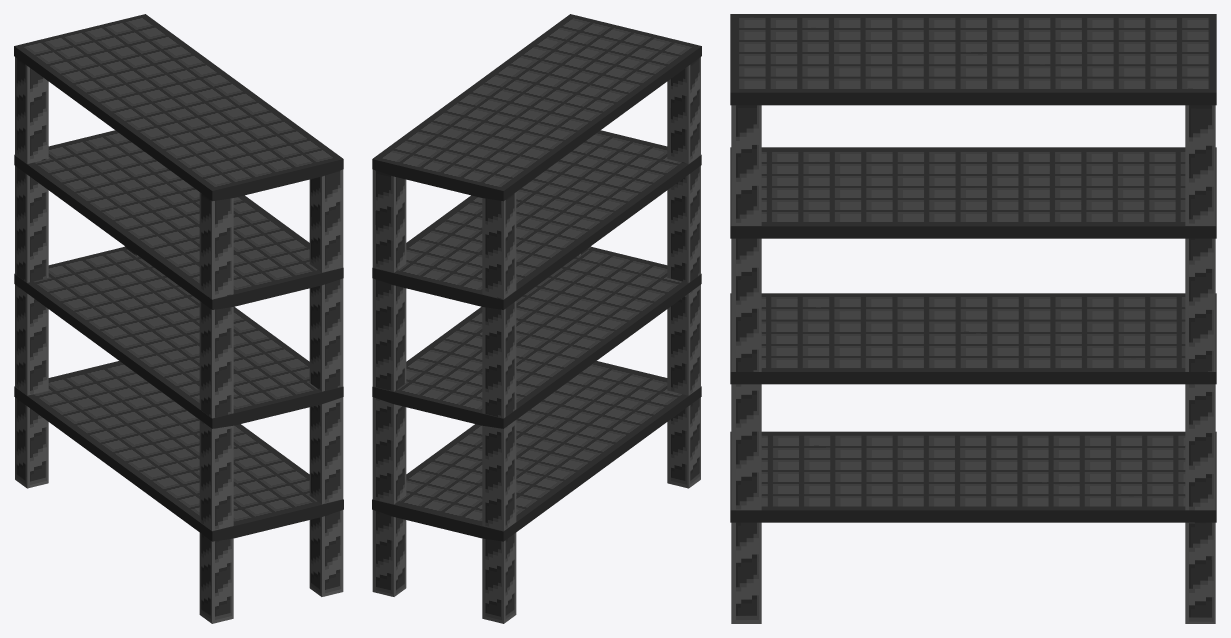
The model's file is Shelf.fbx.
The picture shows the model from 3 angles, left to right: view 1: azimuth 30°, elevation 25°; view 2: azimuth 150°, elevation 25°; view 3: azimuth 270°, elevation 25°; orthographic projection. The views are drawn at different scales.
Visible parts, largest first — view 1: Cube.004, Cube.006, Cube.007, Cube.005, Cube.001, Cube.002, Cube; view 2: Cube.004, Cube.006, Cube.007, Cube.005, Cube, Cube.003, Cube.001; view 3: Cube.004, Cube.005, Cube.006, Cube.007, Cube.002, Cube.003.
Boxes of the visible parts, x1,y1,x2,y2 form: Cube.004: (14, 14, 343, 201); Cube.006: (14, 247, 343, 428); Cube.007: (14, 361, 343, 541); Cube.005: (14, 130, 343, 309); Cube.001: (199, 192, 233, 623); Cube.002: (309, 169, 343, 596); Cube: (15, 57, 48, 488); Cube.004: (372, 14, 701, 201); Cube.006: (372, 247, 701, 428); Cube.007: (372, 361, 701, 541); Cube.005: (372, 130, 701, 309); Cube: (482, 192, 516, 623); Cube.003: (372, 169, 406, 596); Cube.001: (667, 57, 700, 488); Cube.004: (730, 14, 1216, 105); Cube.005: (730, 147, 1216, 238); Cube.006: (730, 293, 1216, 384); Cube.007: (730, 431, 1216, 522); Cube.002: (731, 105, 761, 623); Cube.003: (1185, 105, 1215, 623).
Bounding box in the file's own units: 246 × 775 × 643.
